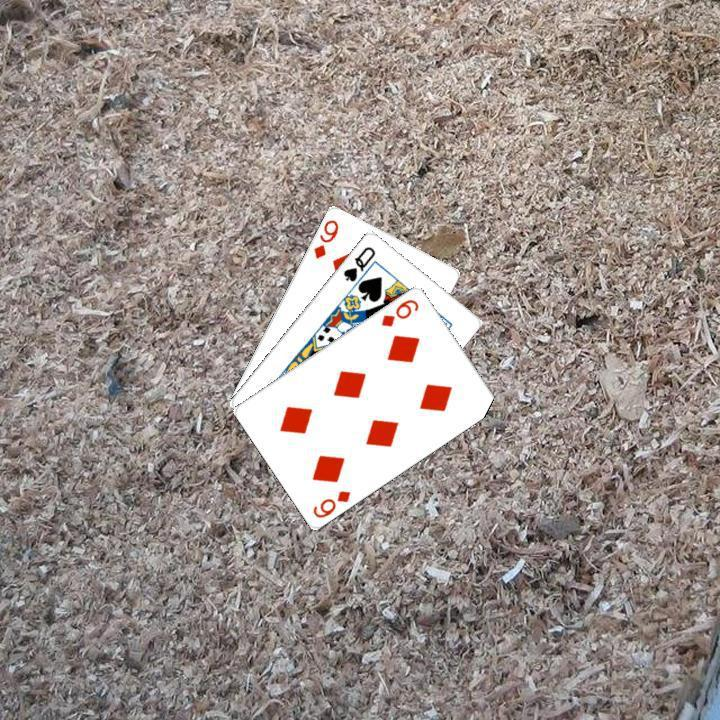6: (308, 485, 353, 520), (377, 294, 421, 328)
9: (309, 215, 341, 260)
Q: (339, 242, 377, 283)
